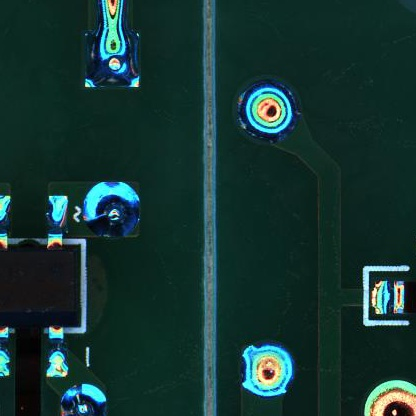spot: (236, 77, 301, 146), (235, 339, 298, 399), (81, 181, 141, 239)
